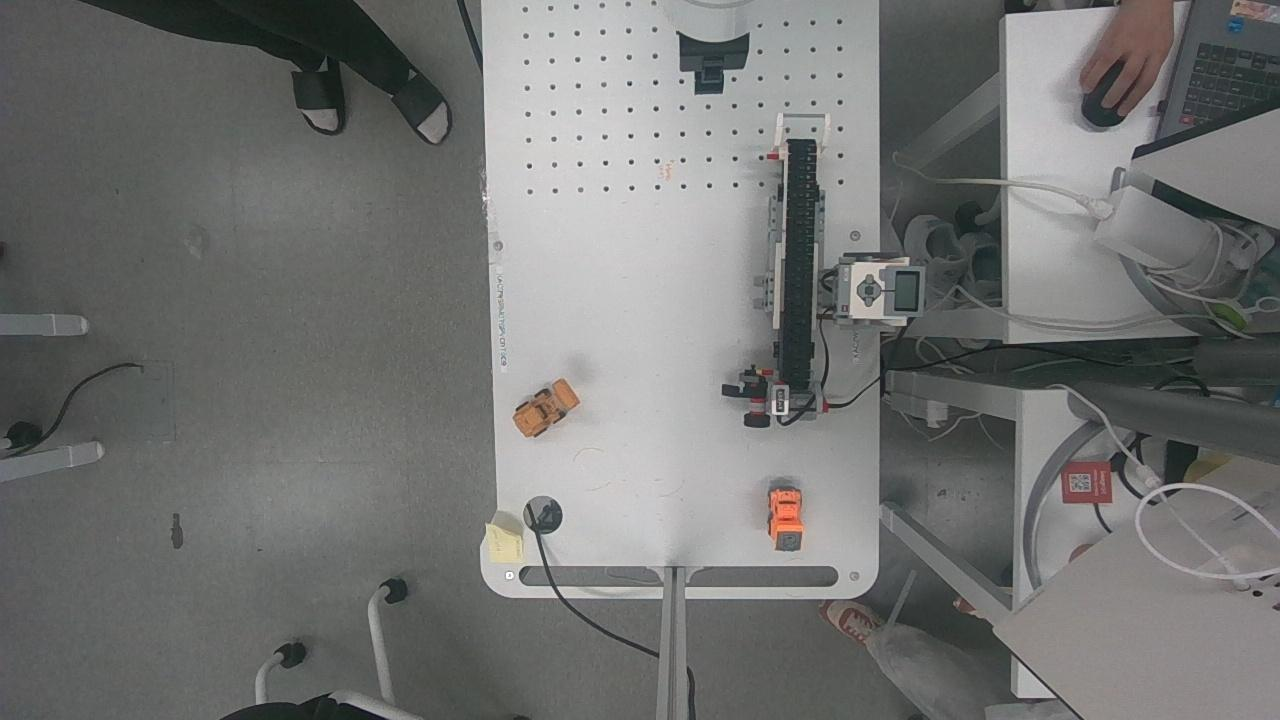orange_car: (764, 483, 810, 558)
yellow_car: (506, 374, 583, 443)
